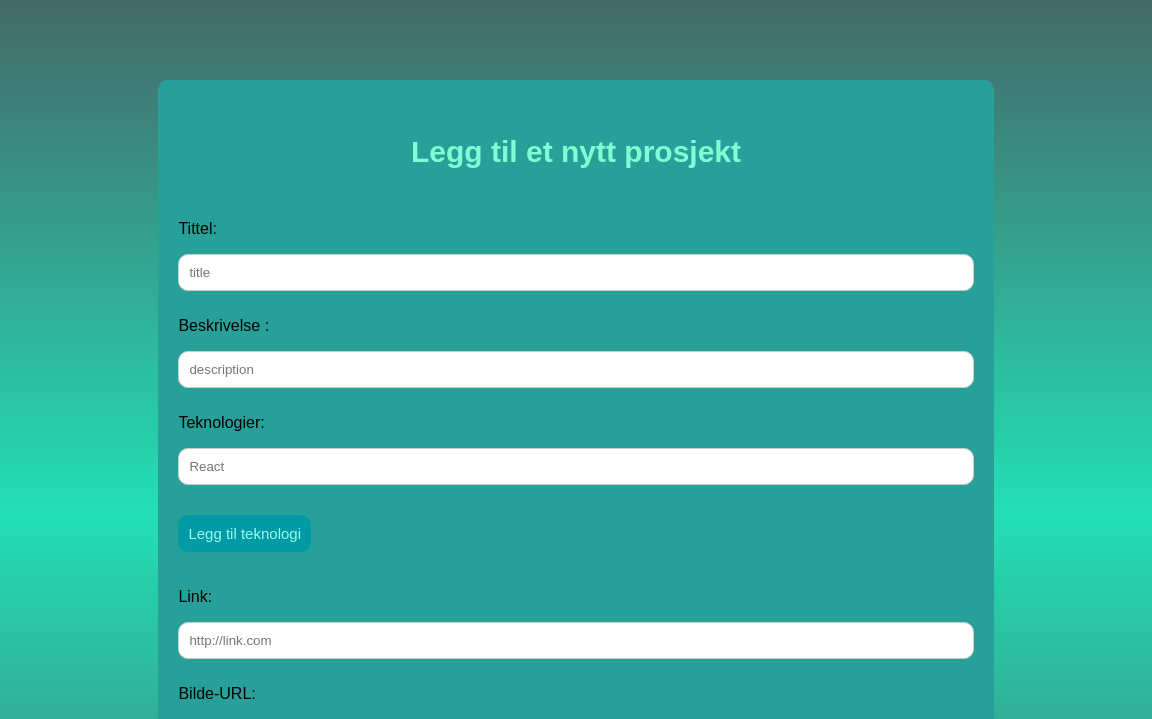
Test case: SubmitProject Component › Should add a technology when clicking the 'Legg til teknologi' button
This screenshot has width=1152, height=719.
Type "TestTechnology" into the field labelled "Teknologier: Legg til teknologi" at (576, 466), box [178,448,974,485]
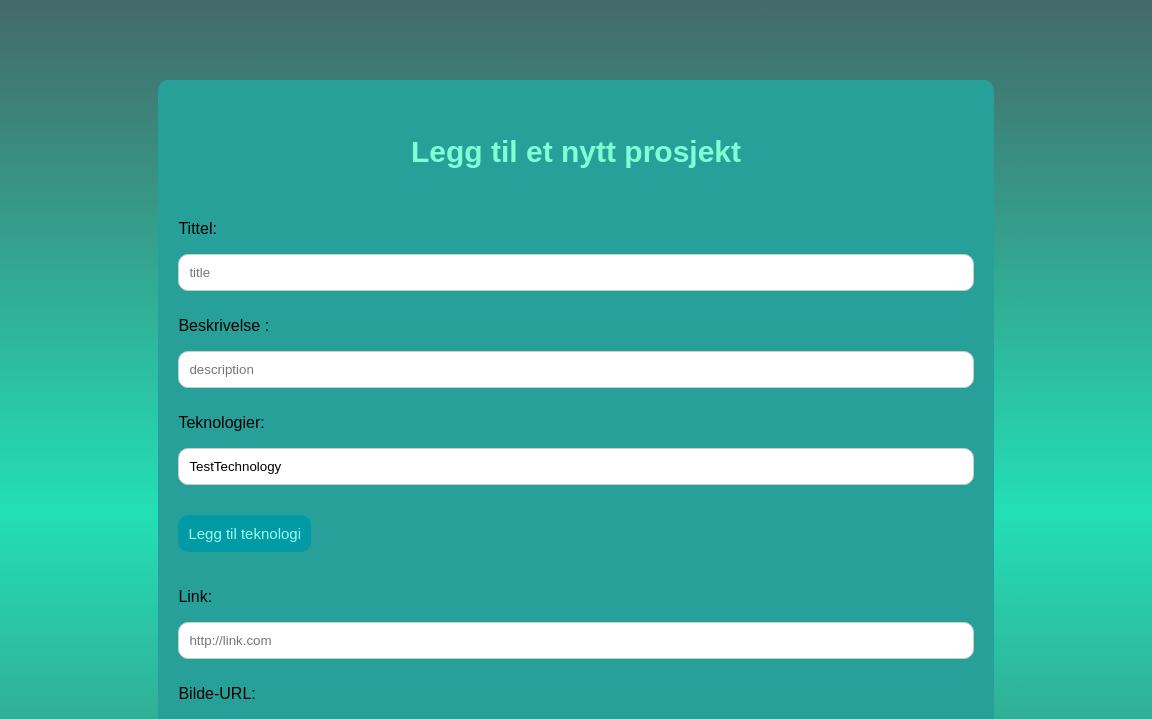
Click the button "Legg til teknologi" at (245, 533), box [178,515,311,552]
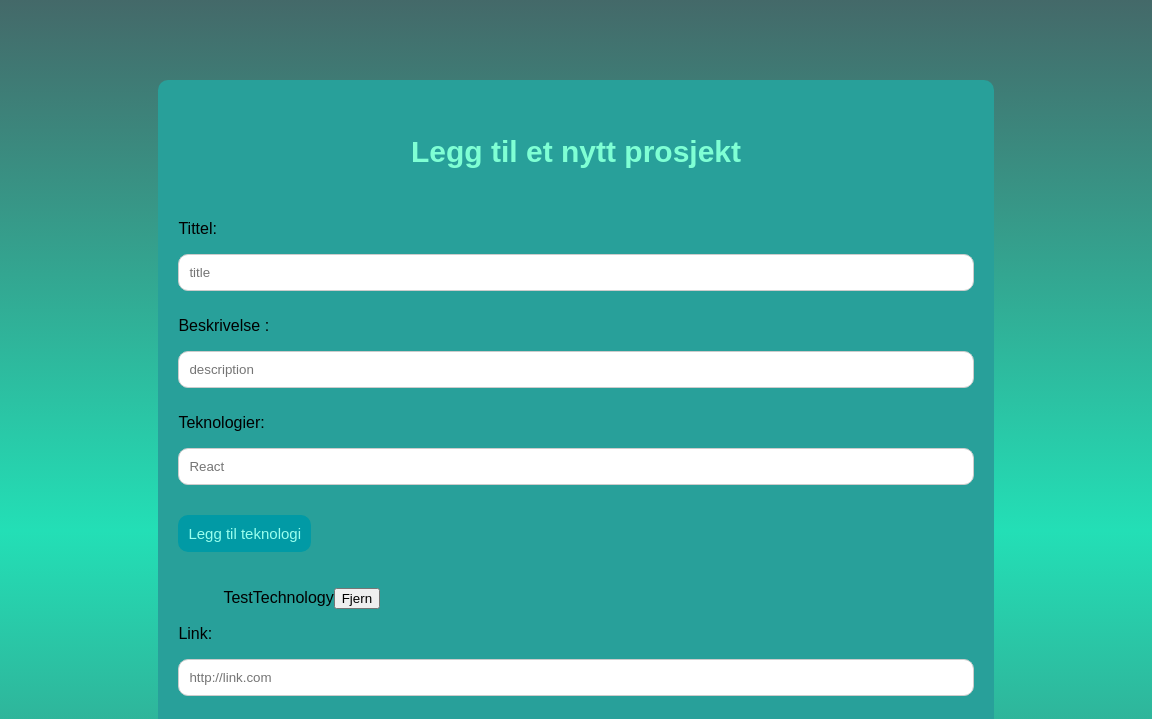
Now the list item "TestTechnology" is shown, box [223,589,334,606]
